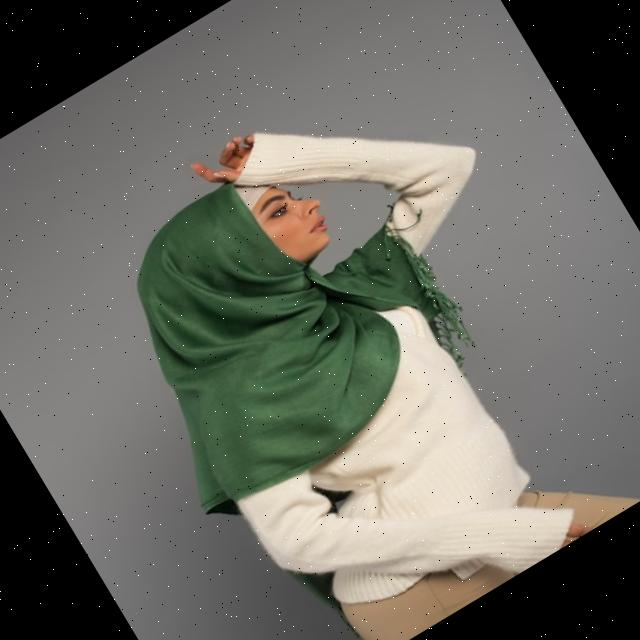Person: (47, 32, 640, 640)
